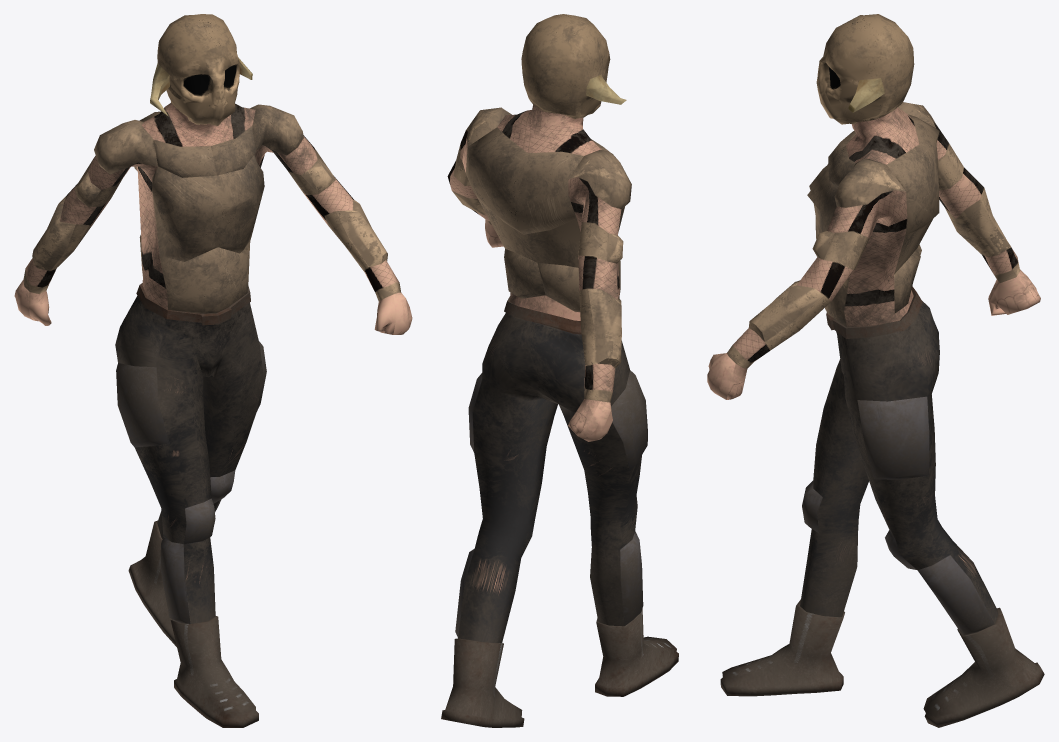
Rendered from Anim_andar_npc1.0026.obj.
3 views of the same model, side by side, from view 1: azimuth 30°, elevation 25°; view 2: azimuth 150°, elevation 25°; view 3: azimuth 270°, elevation 25° (orthographic). The views are drawn at different scales.
Parts seen in each view (by area): view 1: Anim_andar_npc1; view 2: Anim_andar_npc1; view 3: Anim_andar_npc1.
Part boxes in pixels (x1,y1,x2,y2): Anim_andar_npc1: (14, 14, 412, 727); Anim_andar_npc1: (441, 14, 678, 727); Anim_andar_npc1: (707, 14, 1044, 727).
Bounding box in the file's own units: 3.91 × 9.67 × 4.29.
